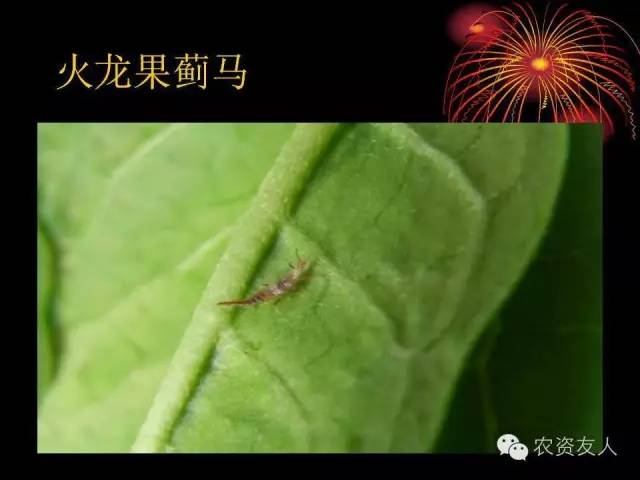thrips: (220, 251, 314, 306)
